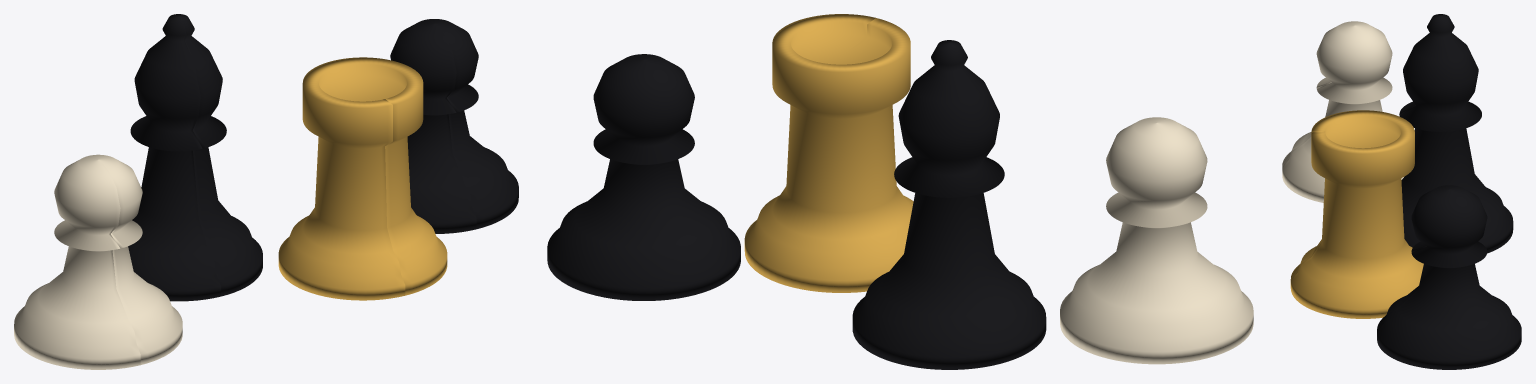
Rendered from chess.glb.
3 views of the same model, side by side, from view 1: azimuth 30°, elevation 25°; view 2: azimuth 150°, elevation 25°; view 3: azimuth 270°, elevation 25° (orthographic). The views are drawn at different scales.
Bounding box in the file's own units: 3.09 × 1.37 × 1.39.
